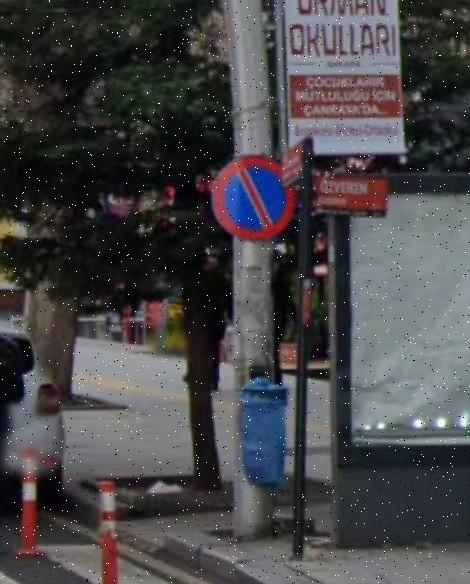nopark: (214, 153, 296, 239)
